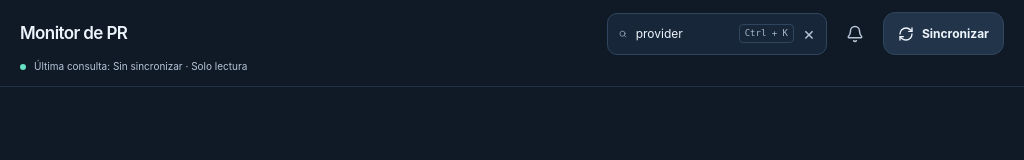
Test: header search shortcuts › clears the query and restores search focus
Click the button named "Limpiar búsqueda": (809, 34) x1=803 y1=24 x2=815 y2=44
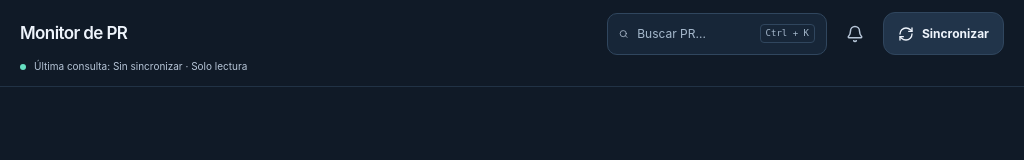
Check: the field named "Buscar por título o PR" is empty, box x1=637 y1=24 x2=751 y2=42
